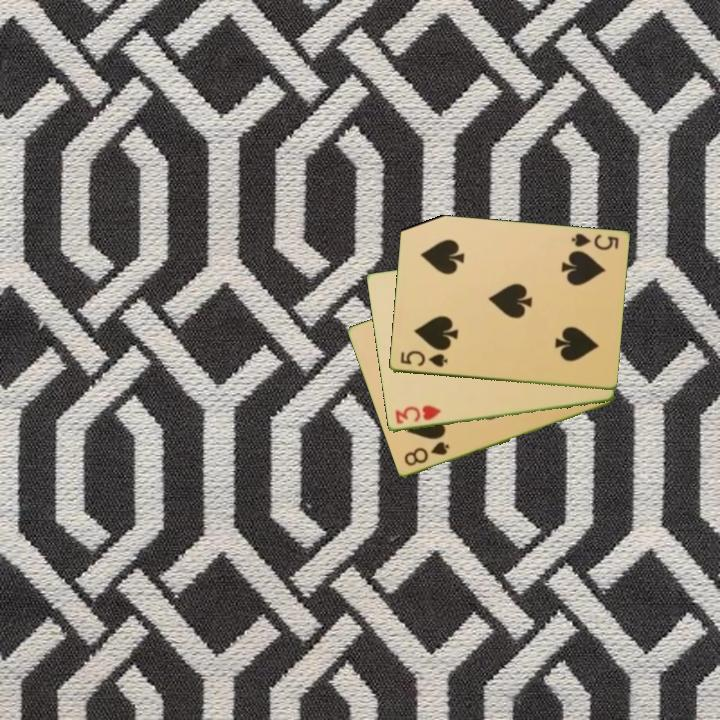3h: (391, 402, 444, 427)
5s: (567, 230, 621, 253), (397, 348, 450, 370)
8s: (400, 438, 452, 469)
